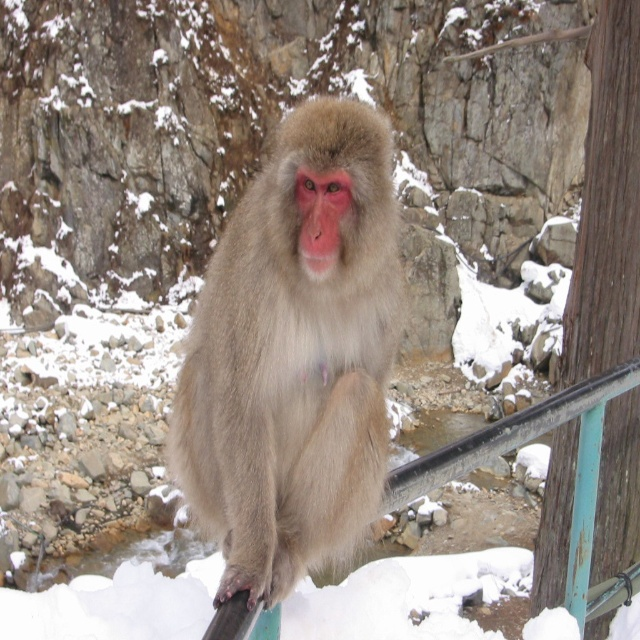Monkey: (173, 101, 404, 639)
